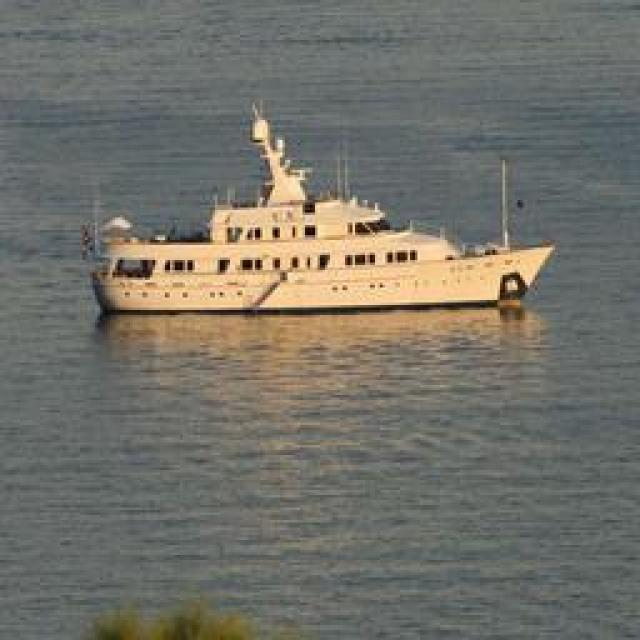ship2: (89, 99, 558, 316)
